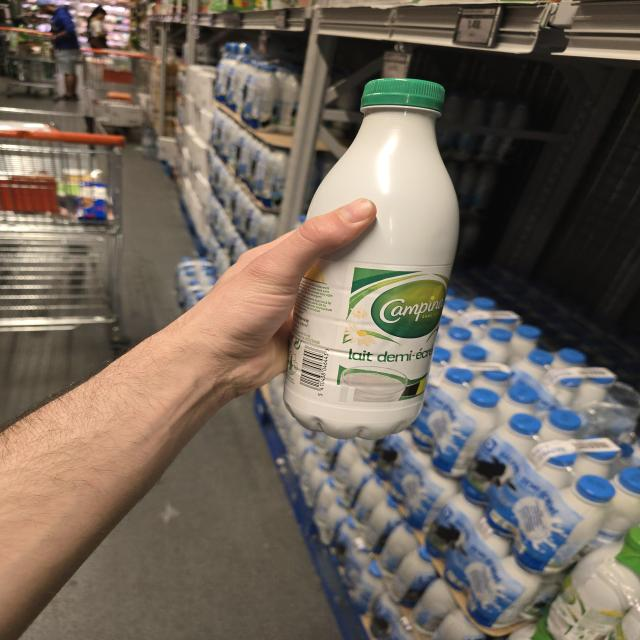Milk: (284, 78, 459, 440)
